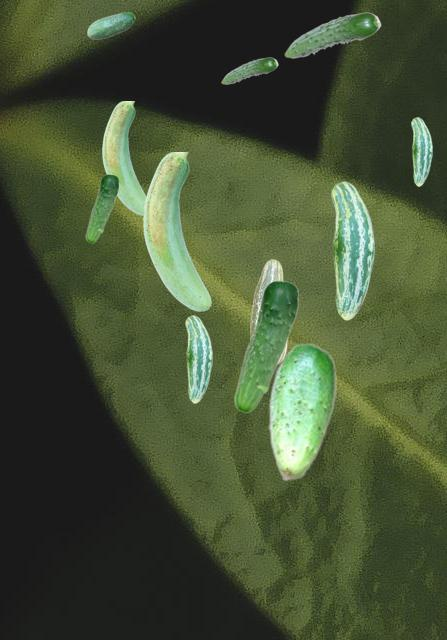cucumber: (143, 152, 210, 310), (268, 342, 335, 480), (233, 280, 298, 412), (331, 181, 373, 319), (102, 101, 145, 214), (284, 12, 380, 57), (250, 259, 286, 361), (185, 315, 211, 402), (85, 174, 118, 242), (221, 57, 277, 83), (411, 117, 431, 185), (87, 12, 134, 38)
